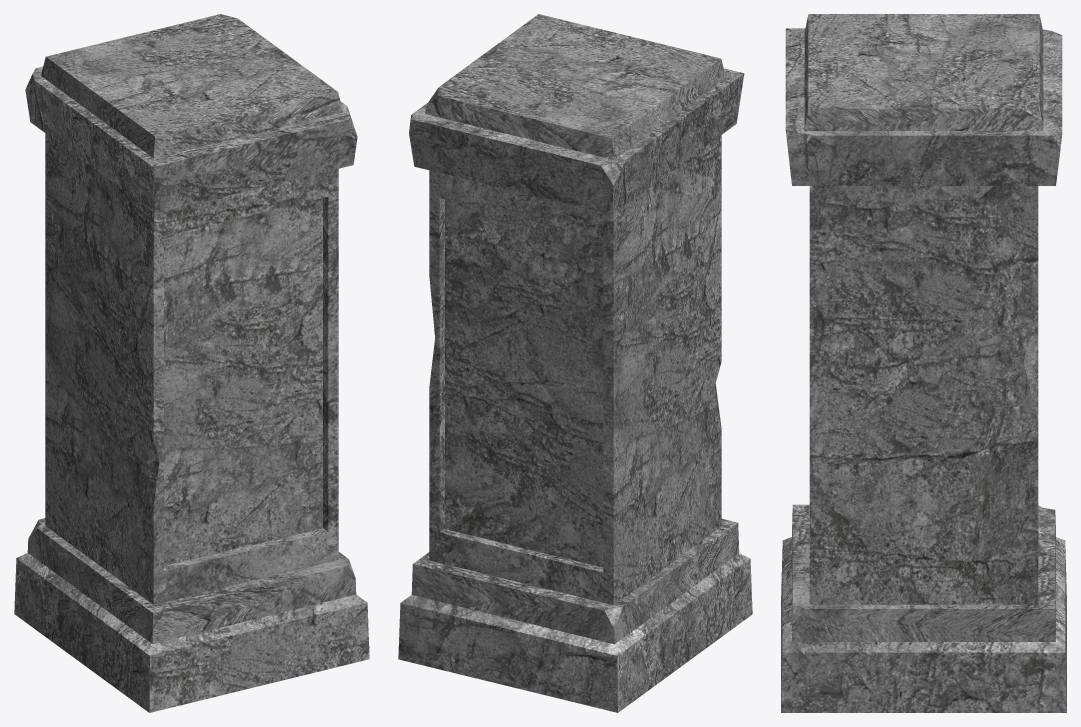
Rendered from materials_3_pedestal_2.fbx.
3 renders of one model, left to right at view 1: azimuth 30°, elevation 25°; view 2: azimuth 150°, elevation 25°; view 3: azimuth 270°, elevation 25°, orthographic. The views are drawn at different scales.
Parts seen in each view (by area): view 1: materials_3_pedestal_2; view 2: materials_3_pedestal_2; view 3: materials_3_pedestal_2.
Boxes of the visible parts, <box> form: materials_3_pedestal_2: <box>14,14,369,712</box>; materials_3_pedestal_2: <box>398,14,752,712</box>; materials_3_pedestal_2: <box>781,14,1066,712</box>.
Bounding box in the file's own units: 52.11 × 127 × 55.39.
